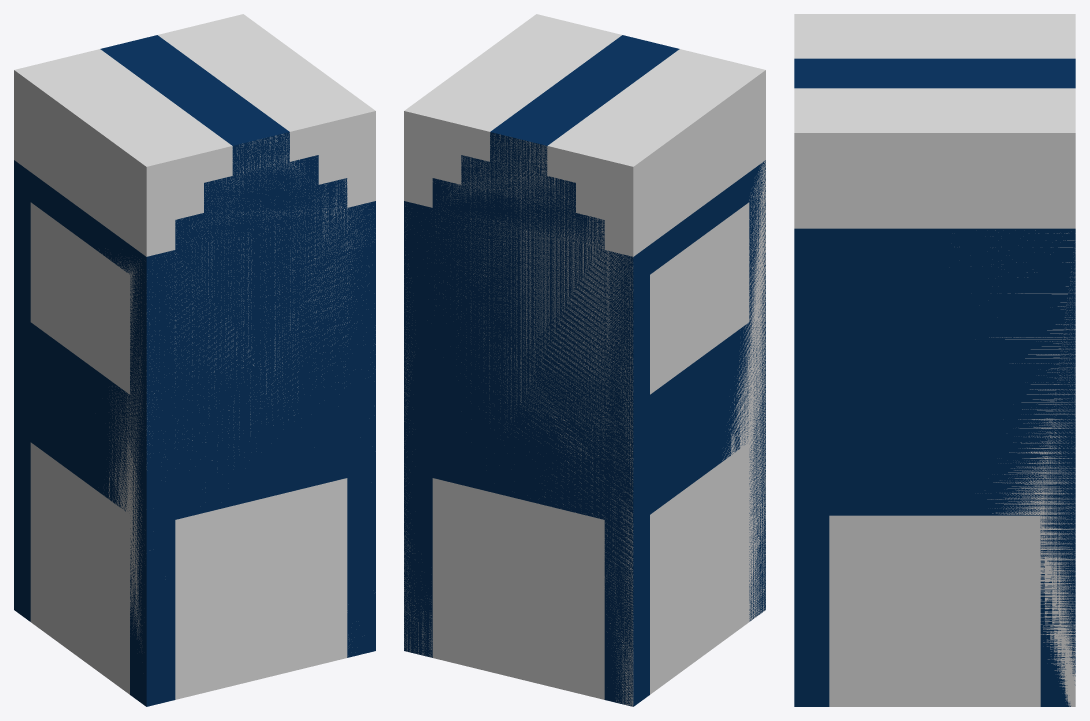
File: Post2_B2_1_01.FBX
The picture shows the model from 3 angles, left to right: view 1: azimuth 30°, elevation 25°; view 2: azimuth 150°, elevation 25°; view 3: azimuth 270°, elevation 25°; orthographic projection. The views are drawn at different scales.
Visible parts, largest first — view 1: Post2_B2_Live_1_01, Post2_B2_Damage_1_01; view 2: Post2_B2_Damage_1_01, Post2_B2_Live_1_01; view 3: Post2_B2_Live_1_01, Post2_B2_Damage_1_01.
Boxes of the visible parts, left/top/right/bottom form: Post2_B2_Live_1_01: left=14, top=35, right=375, bottom=706; Post2_B2_Damage_1_01: left=14, top=14, right=375, bottom=699; Post2_B2_Damage_1_01: left=404, top=14, right=765, bottom=706; Post2_B2_Live_1_01: left=404, top=35, right=765, bottom=706; Post2_B2_Live_1_01: left=794, top=58, right=1075, bottom=706; Post2_B2_Damage_1_01: left=794, top=14, right=1075, bottom=706.
Bounding box in the file's own units: 0.84 × 1.89 × 0.84.
